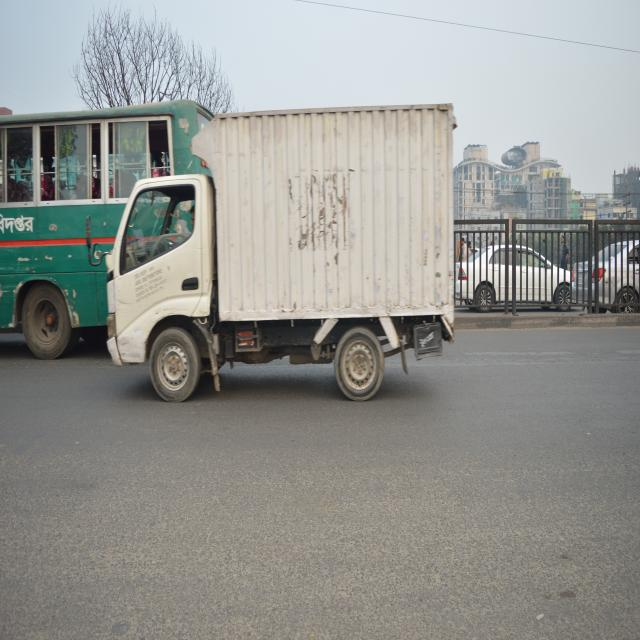bus: (0, 100, 144, 352)
car: (460, 234, 580, 326), (580, 229, 640, 320)
pickup-van: (102, 98, 463, 438)
